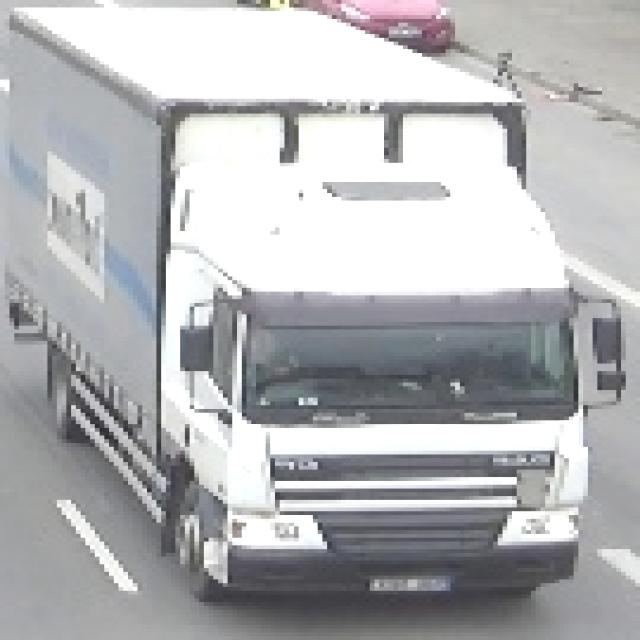truck: (1, 1, 622, 603)
